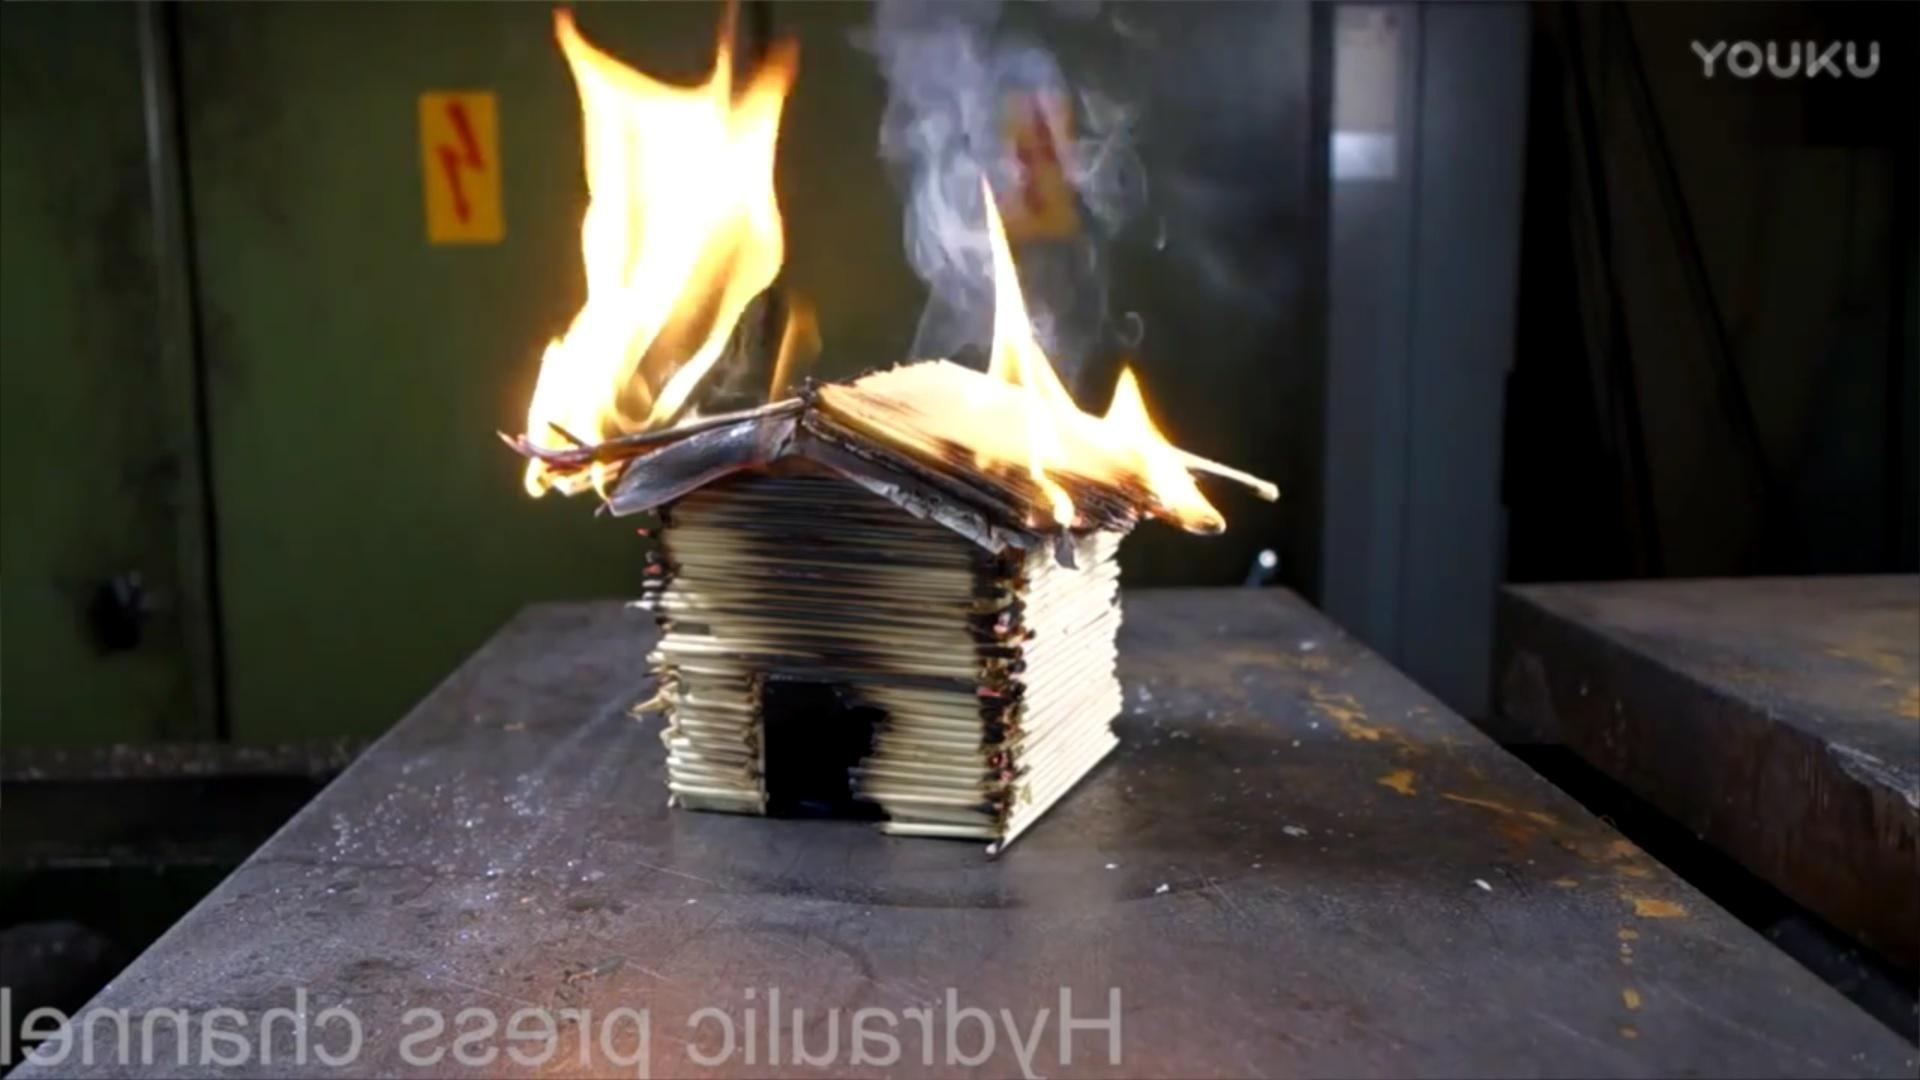fire: (524, 12, 794, 487), (928, 266, 1233, 542)
